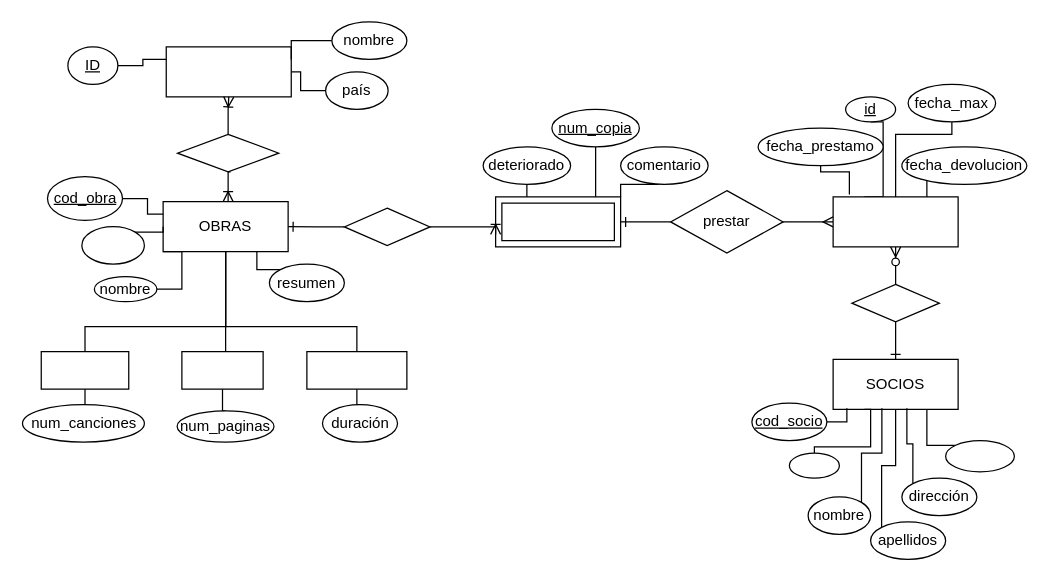
The diagram is 1049 pixels wide and 581 high, and some of its shapes have lost their labels. Here are the shapes that lost their labels. From the top down, the centre of each, then its label:
At point (228, 71): "AUTORES".
At point (227, 152): "crear".
At point (386, 226): "tener".
At point (557, 221): "COPIAS".
At point (895, 221): "PRESTAMOS".
At point (112, 244): "año".
At point (895, 302): "hacer".
At point (84, 369): "CD's".
At point (222, 369): "LIBROS".
At point (356, 369): "PELICULAS".
At point (813, 465): "DNI".
At point (979, 455): "teléfono".
